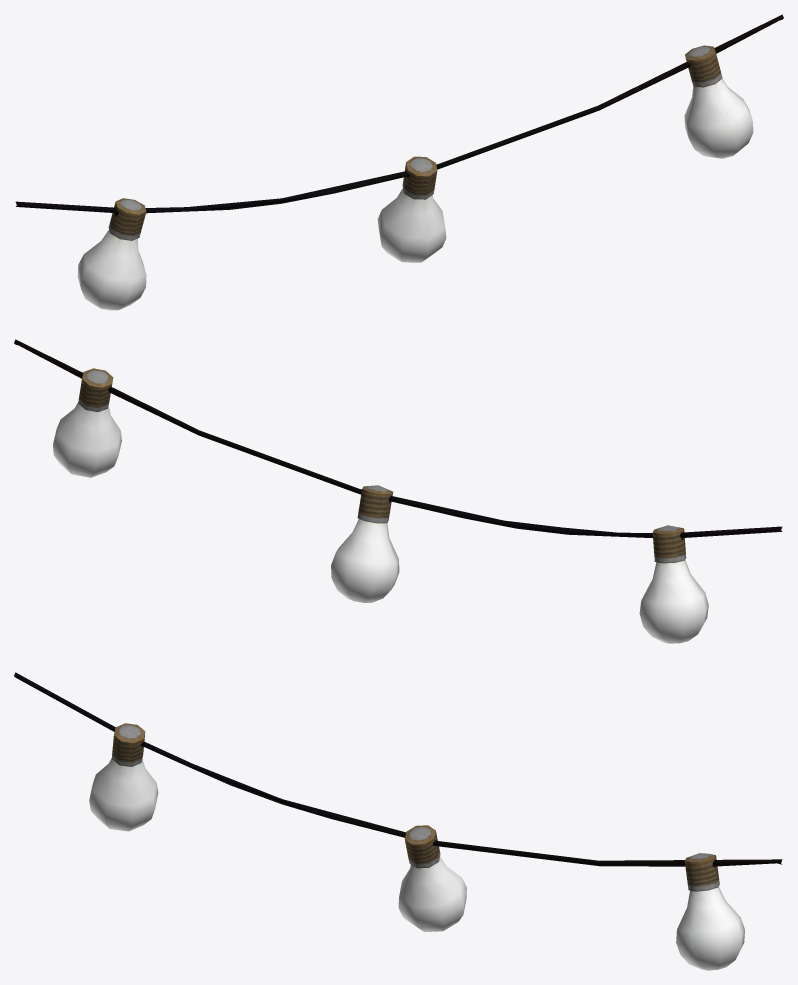
The model's file is string_lights_150_a.glb.
The picture shows the model from 3 angles, top to bottom: view 1: azimuth 30°, elevation 25°; view 2: azimuth 150°, elevation 25°; view 3: azimuth 330°, elevation 25°; orthographic projection.
Parts seen in each view (by area): view 1: string_lights_150_a; view 2: string_lights_150_a; view 3: string_lights_150_a.
Boxes of the visible parts, x1,y1,x2,y2 form: string_lights_150_a: (15,14,783,310); string_lights_150_a: (14,339,782,643); string_lights_150_a: (14,672,782,970).
Bounding box in the file's own units: 1.5 × 0.3088 × 0.1703.
Materials: 1 (1 with a texture image).
